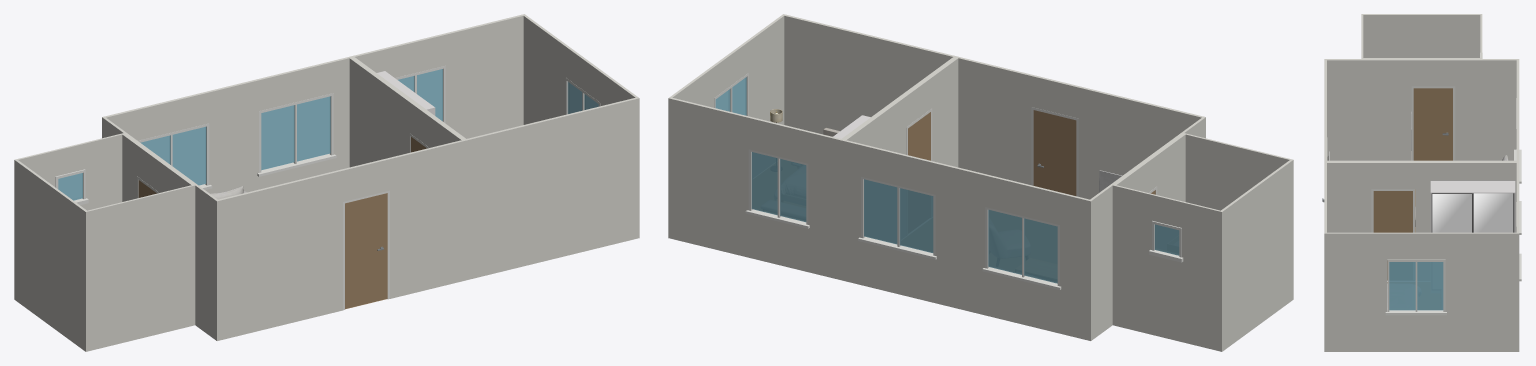
The model's file is scenesmith_8.glb.
3 views of the same model, side by side, from view 1: azimuth 30°, elevation 25°; view 2: azimuth 150°, elevation 25°; view 3: azimuth 270°, elevation 25° (orthographic). The views are drawn at different scales.
Visible parts, largest first — view 1: scene_187_bathroom_east_wall, scene_187_bathroom_north_wall Window 0 | glazing, scene_187_bathroom_east_wall Door 0 | wood leaf, scene_187_bathroom_east_wall Door 0 | jamb, P_aac9485ae7638ec9.001; view 2: scene_187_bathroom_east_wall, scene_187_bathroom_north_wall Window 0 | glazing, scene_187_bathroom_east_wall Door 0 | jamb, scene_187_bathroom_east_wall Door 0 | wood leaf, furniture_group; view 3: scene_187_bathroom_east_wall, scene_187_bathroom_east_wall Door 0 | wood leaf, P_2c2645da83e83297.001, scene_187_bathroom_north_wall Window 0 | glazing, scene_187_bathroom_east_wall Door 0 | jamb, P_aac9485ae7638ec9.001, P_1b1afbaf53e65ec9.001.
Part boxes in pixels (<box>): scene_187_bathroom_east_wall: <box>14,14,639,351</box>; scene_187_bathroom_north_wall Window 0 | glazing: <box>58,69,598,200</box>; scene_187_bathroom_east_wall Door 0 | wood leaf: <box>138,137,426,308</box>; scene_187_bathroom_east_wall Door 0 | jamb: <box>55,65,600,310</box>; P_aac9485ae7638ec9.001: <box>377,71,435,115</box>; scene_187_bathroom_east_wall: <box>668,14,1293,351</box>; scene_187_bathroom_north_wall Window 0 | glazing: <box>715,77,1179,283</box>; scene_187_bathroom_east_wall Door 0 | jamb: <box>714,73,1183,289</box>; scene_187_bathroom_east_wall Door 0 | wood leaf: <box>908,110,1155,195</box>; furniture_group: <box>770,109,1122,192</box>; scene_187_bathroom_east_wall: <box>1324,14,1519,351</box>; scene_187_bathroom_east_wall Door 0 | wood leaf: <box>1373,88,1452,280</box>; P_2c2645da83e83297.001: <box>1432,193,1513,232</box>; scene_187_bathroom_north_wall Window 0 | glazing: <box>1389,262,1443,310</box>; scene_187_bathroom_east_wall Door 0 | jamb: <box>1327,53,1521,315</box>; P_aac9485ae7638ec9.001: <box>1430,180,1515,232</box>; P_1b1afbaf53e65ec9.001: <box>1431,193,1514,232</box>.
Size of the model in its own units: 10.76 by 2.71 by 4.1.
26 materials, 12 textured.
